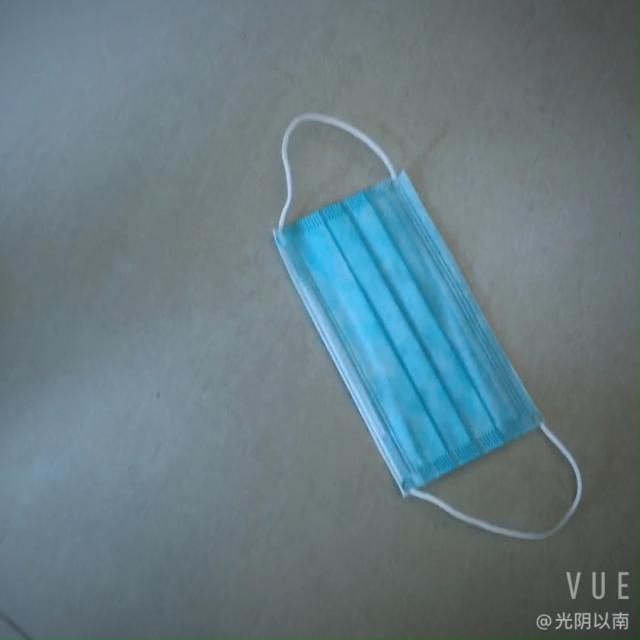non-organic waste: (281, 164, 530, 520)
